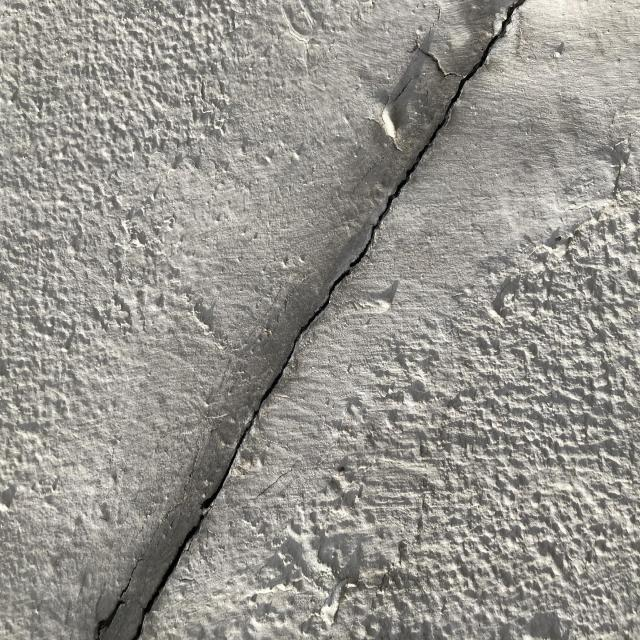SurfaceCrack: (55, 1, 571, 640)
